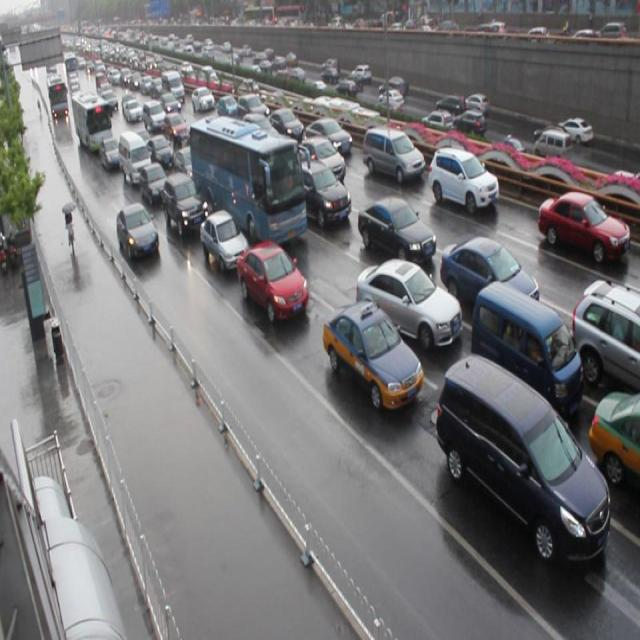car: (322, 304, 421, 414), (354, 264, 459, 356), (438, 240, 537, 322), (568, 284, 640, 394), (536, 189, 630, 263), (234, 247, 307, 327), (585, 396, 640, 494), (356, 200, 433, 270), (429, 147, 497, 211), (292, 164, 349, 233), (198, 214, 248, 275), (162, 178, 206, 240), (116, 202, 160, 260), (300, 135, 345, 183), (304, 117, 350, 158), (139, 166, 168, 211), (267, 106, 303, 142), (172, 150, 200, 188), (146, 139, 171, 173)
truck: (434, 359, 608, 568), (469, 284, 580, 416), (363, 126, 424, 184)
van: (187, 119, 304, 251)
